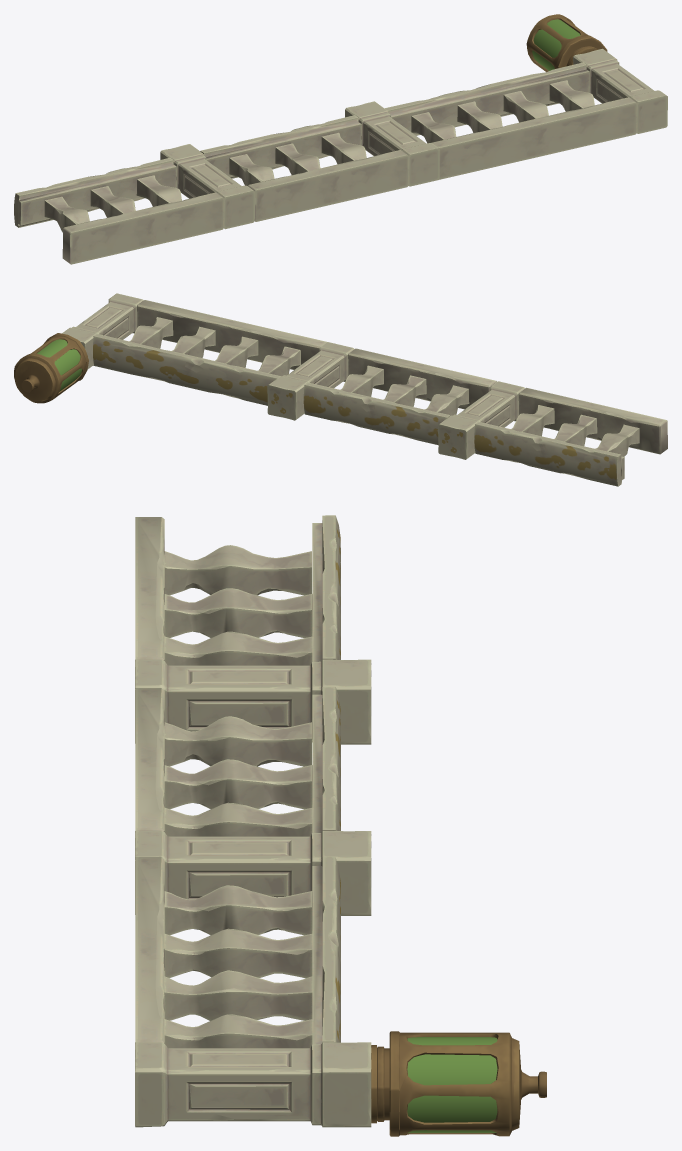
The model's file is Bannister.fbx.
3 views of the same model, one above another, from view 1: azimuth 30°, elevation 25°; view 2: azimuth 150°, elevation 25°; view 3: azimuth 270°, elevation 25° (orthographic). The views are drawn at different scales.
Parts seen in each view (by area): view 1: Bannister1Column_new (1), Bannister1Column_new.001, Bannister1Column_new, BannisterUpperVar1 (1), BannisterUpperVar1.001, BannisterUpperVar1, BannisterLateralPillar2.002, BannisterLateralPillar2, BannisterLateralPillar2.001, WallLamp (1), drumGlassSmall2.001, BannisterPillar1 (3) (+9 smaller); view 2: BannisterUpperVar1 (1), BannisterUpperVar1.001, BannisterUpperVar1, Bannister1Column_new (1), Bannister1Column_new.001, Bannister1Column_new, BannisterLateralPillar2.002, BannisterLateralPillar2.001, WallLamp (1), BannisterLateralPillar2, drumGlassSmall2.001, BannisterPillar1 (1) (+9 smaller); view 3: BannisterLateralPillar2, BannisterLateralPillar2.001, BannisterLateralPillar2.002, WallLamp (1), BannisterPillar1 (2), drumGlassSmall2.001, BannisterPillar3, BannisterPillar3 (1), BannisterPillar3.001, BannisterPillar1 (1), BannisterPillar2.001, BannisterPillar2.002 (+9 smaller).
Boxes of the visible parts, x1,y1,x2,y2 form: Bannister1Column_new (1): [431, 97, 637, 179]; Bannister1Column_new.001: [62, 192, 224, 264]; Bannister1Column_new: [248, 150, 408, 221]; BannisterUpperVar1 (1): [384, 62, 589, 135]; BannisterUpperVar1.001: [14, 157, 176, 227]; BannisterUpperVar1: [200, 115, 361, 178]; BannisterLateralPillar2.002: [345, 101, 439, 186]; BannisterLateralPillar2: [573, 48, 667, 133]; BannisterLateralPillar2.001: [160, 144, 254, 229]; WallLamp (1): [526, 14, 607, 71]; drumGlassSmall2.001: [532, 19, 580, 70]; BannisterPillar1 (3): [549, 80, 594, 111]; BannisterUpperVar1 (1): [93, 334, 280, 405]; BannisterUpperVar1.001: [474, 421, 624, 486]; BannisterUpperVar1: [303, 382, 450, 445]; Bannister1Column_new (1): [137, 300, 326, 369]; Bannister1Column_new.001: [518, 387, 667, 454]; Bannister1Column_new: [348, 348, 496, 409]; BannisterLateralPillar2.002: [267, 342, 354, 420]; BannisterLateralPillar2.001: [438, 381, 524, 459]; WallLamp (1): [14, 333, 88, 403]; BannisterLateralPillar2: [62, 293, 143, 369]; drumGlassSmall2.001: [37, 339, 81, 391]; BannisterPillar1 (1): [215, 336, 258, 367]; BannisterLateralPillar2: [135, 1042, 371, 1127]; BannisterLateralPillar2.001: [135, 659, 371, 744]; BannisterLateralPillar2.002: [135, 831, 371, 915]; WallLamp (1): [371, 1031, 546, 1136]; BannisterPillar1 (2): [164, 970, 312, 1020]; drumGlassSmall2.001: [407, 1036, 497, 1132]; BannisterPillar3: [164, 759, 312, 809]; BannisterPillar3 (1): [164, 885, 312, 935]; BannisterPillar3.001: [164, 588, 312, 637]; BannisterPillar1 (1): [164, 928, 312, 978]; BannisterPillar2.001: [164, 716, 311, 766]; BannisterPillar2.002: [164, 545, 311, 595].
Bounding box in the file's own units: 1978 × 161 × 628.
